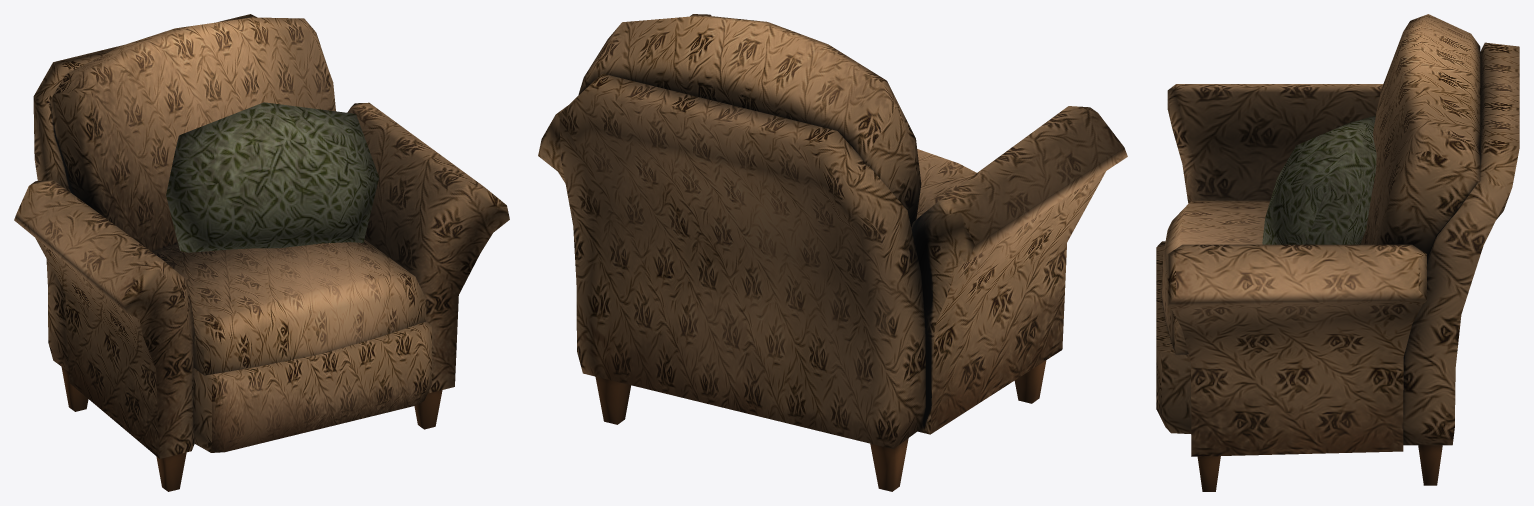
File: armchair.fbx
The picture shows the model from 3 angles, left to right: view 1: azimuth 30°, elevation 25°; view 2: azimuth 150°, elevation 25°; view 3: azimuth 270°, elevation 25°; orthographic projection. The views are drawn at different scales.
Visible parts, largest first — view 1: armchair; view 2: armchair; view 3: armchair.
Part boxes in pixels (left/top/right/bottom): armchair: left=14, top=14, right=509, bottom=491; armchair: left=538, top=14, right=1127, bottom=491; armchair: left=1156, top=14, right=1519, bottom=491.
Size of the model in its own units: 3.07 by 2.73 by 2.39.
Materials: 1 (1 with a texture image).
